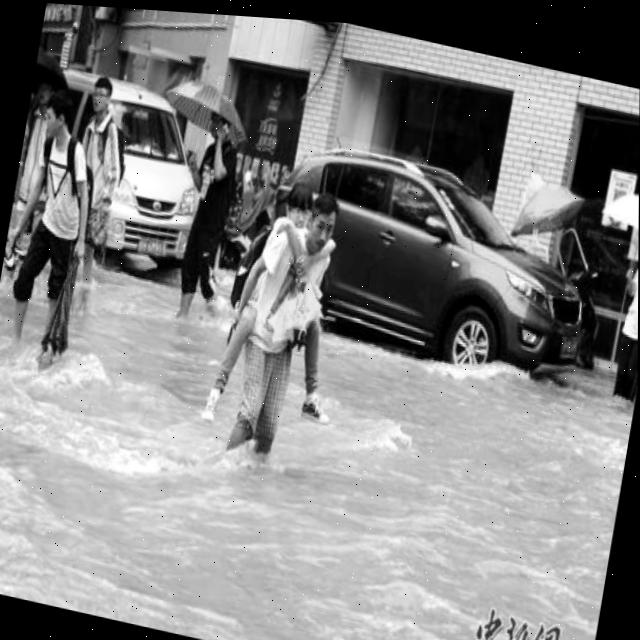civilian: (191, 162, 370, 457), (210, 167, 349, 492), (0, 85, 106, 366), (45, 63, 140, 310), (168, 110, 252, 338), (598, 226, 639, 422)
